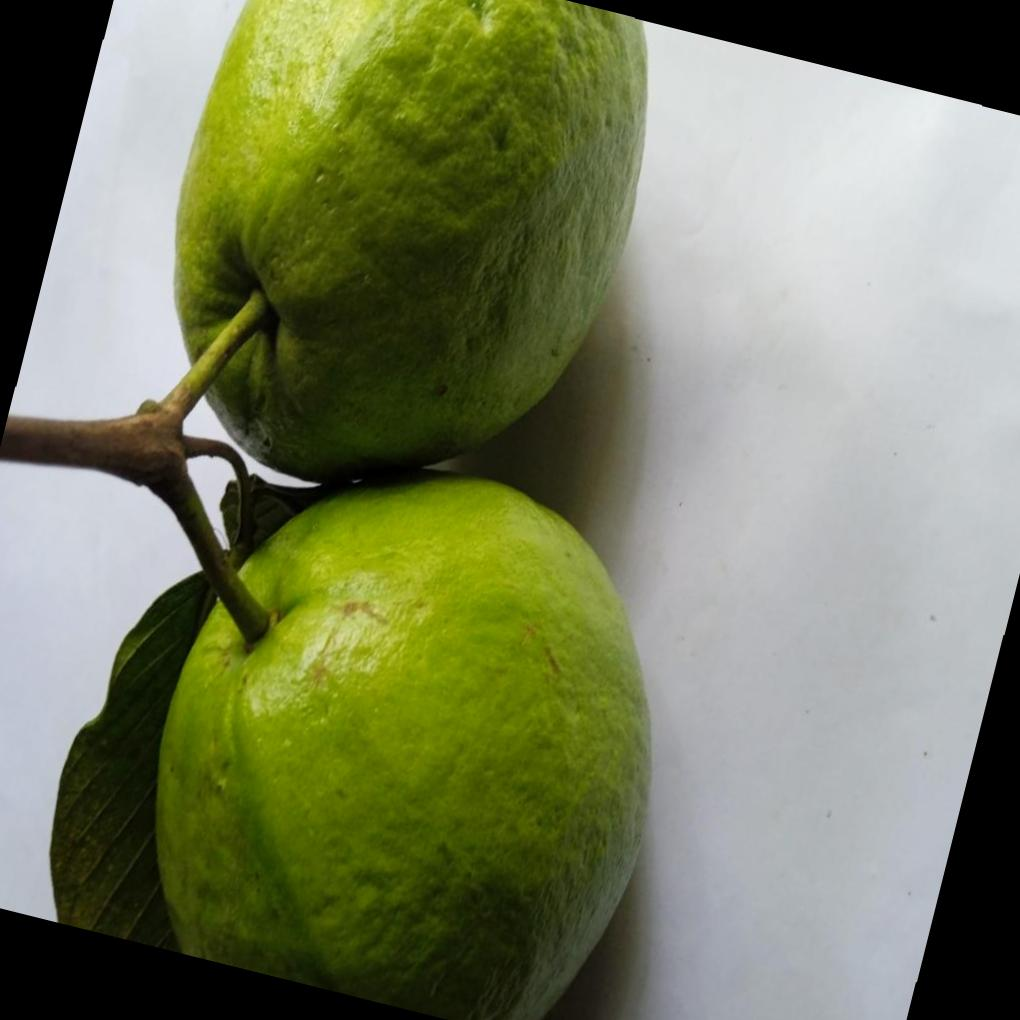FreshGuava: (0, 0, 652, 1020)
